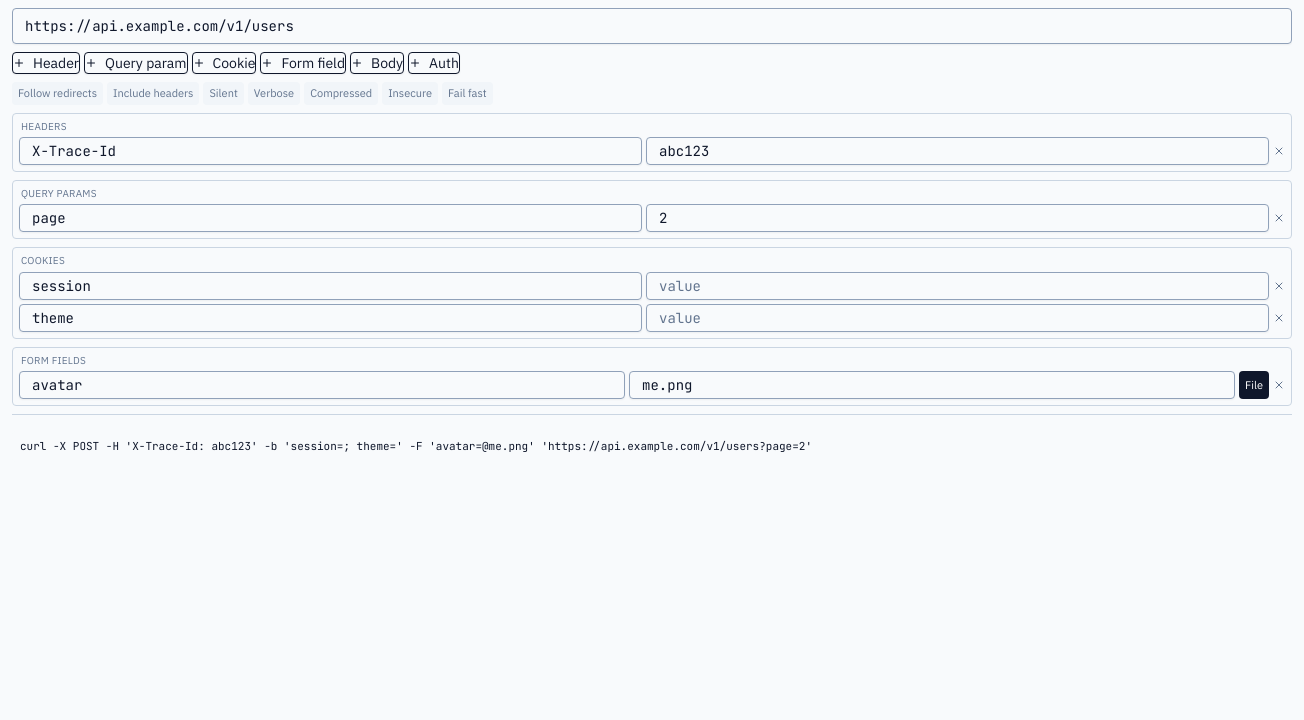
Test case: CurlBuilderWidget › adds bearer auth as an Authorization header
The image size is (1304, 720).
Step 1. Click the button "Auth" → (434, 63), box x1=408 y1=52 x2=460 y2=74
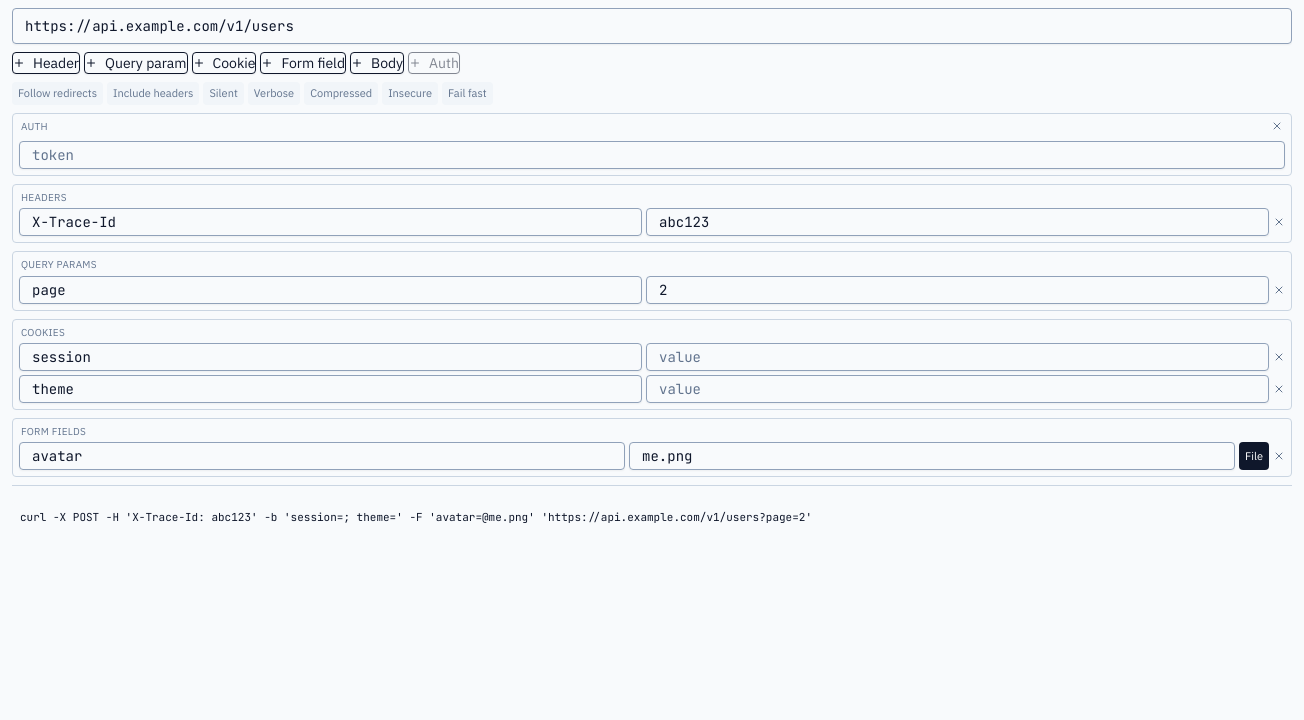
Step 2. Type "tok_123" into the field named "Bearer token" → (652, 155), box x1=19 y1=141 x2=1285 y2=169
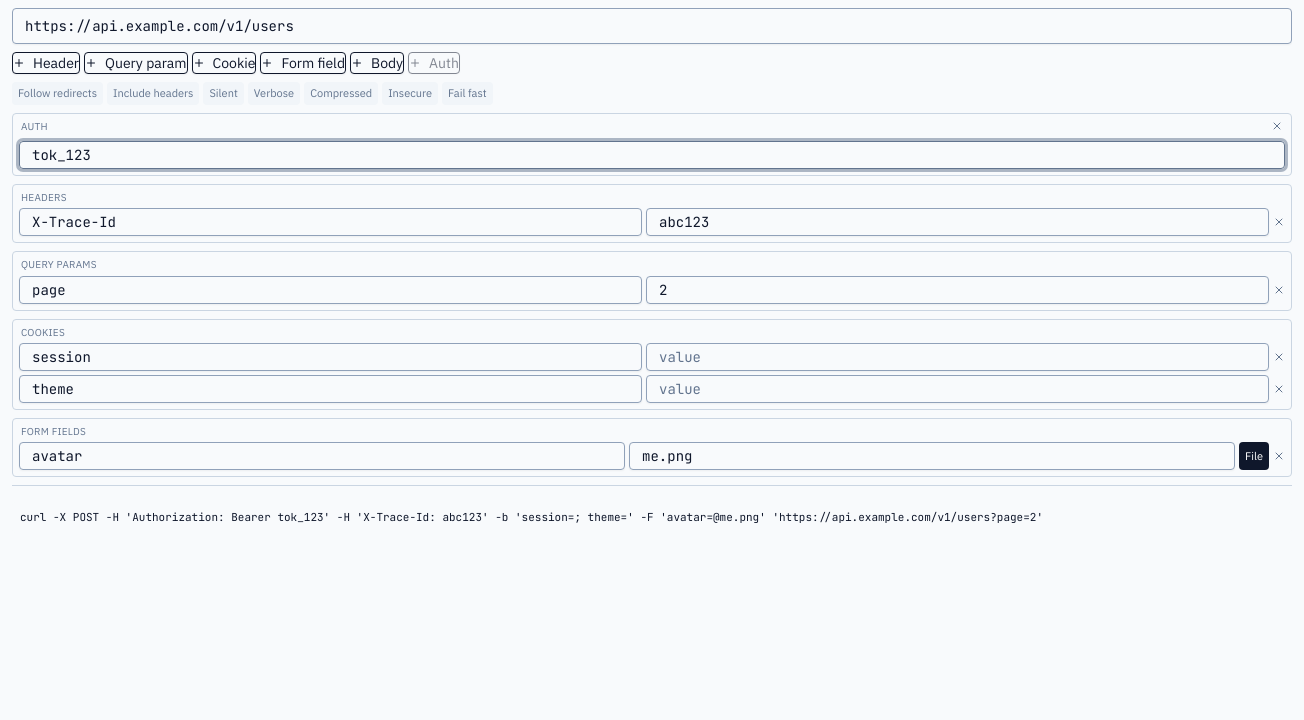
Now the button "Auth" is disabled, box x1=408 y1=52 x2=460 y2=74
Now the text "curl " shows "-H 'Authorization: Bearer tok_123'", box x1=20 y1=510 x2=1043 y2=524
